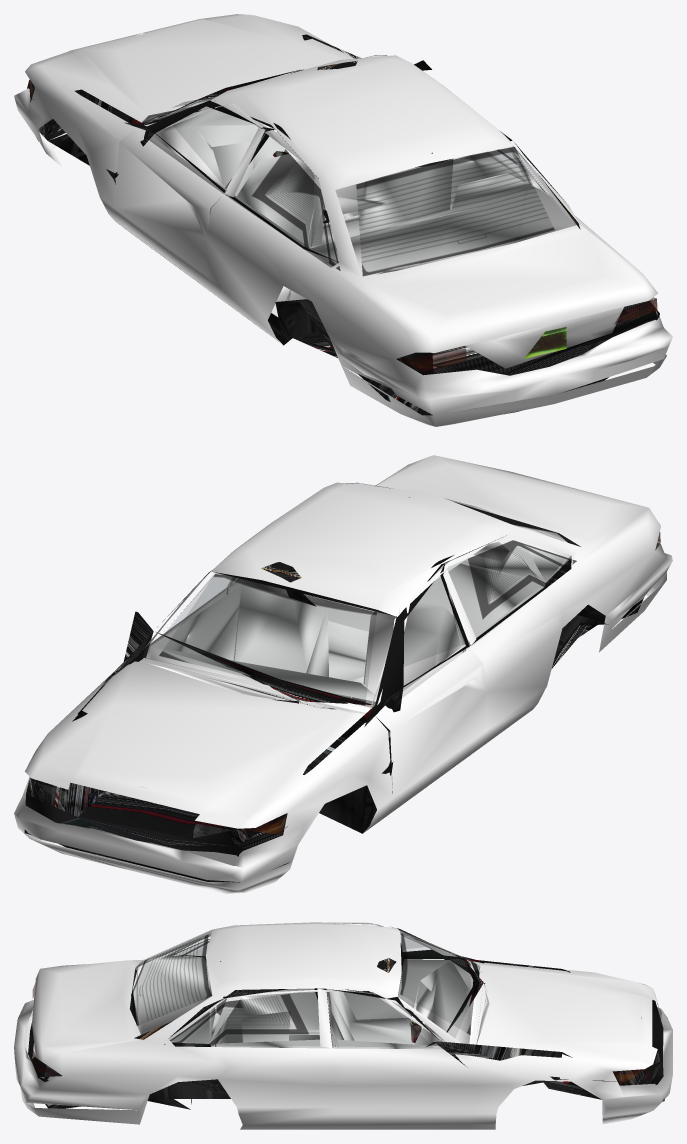
File: stanier-lod.glb
3 renders of one model, top to bottom at view 1: azimuth 30°, elevation 25°; view 2: azimuth 150°, elevation 25°; view 3: azimuth 270°, elevation 25°, orthographic. The views are drawn at different scales.
Bounding box in the file's own units: 2.03 × 1.21 × 5.3.
9 materials, 8 textured.
